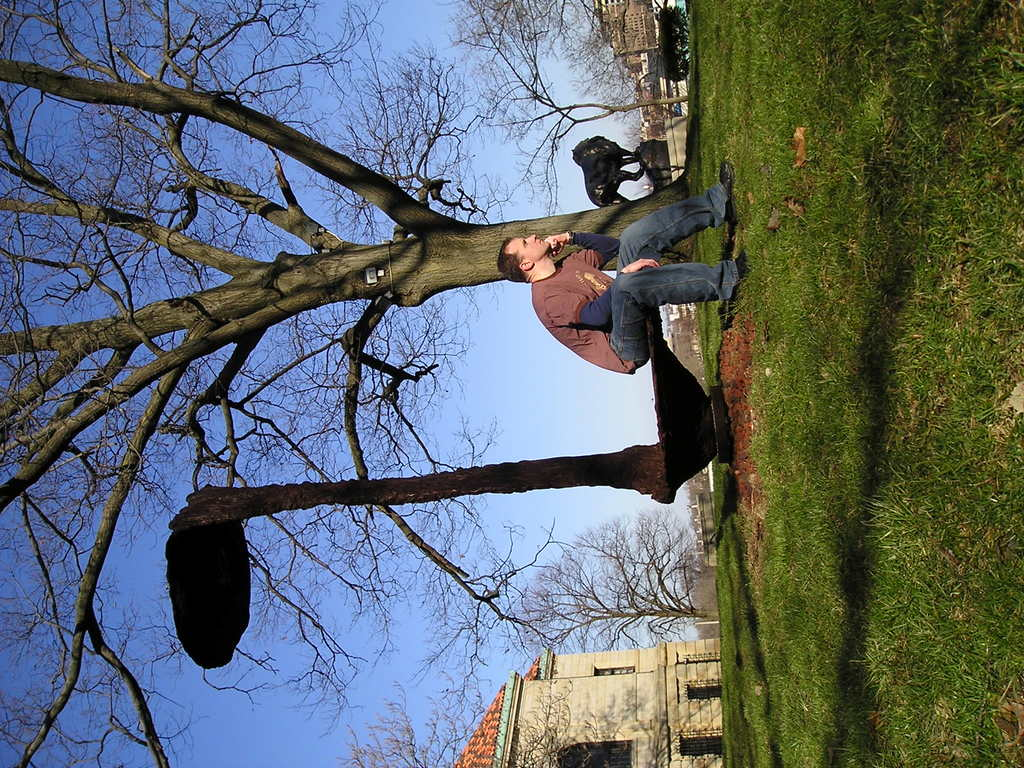Tree: (0, 0, 698, 767)
